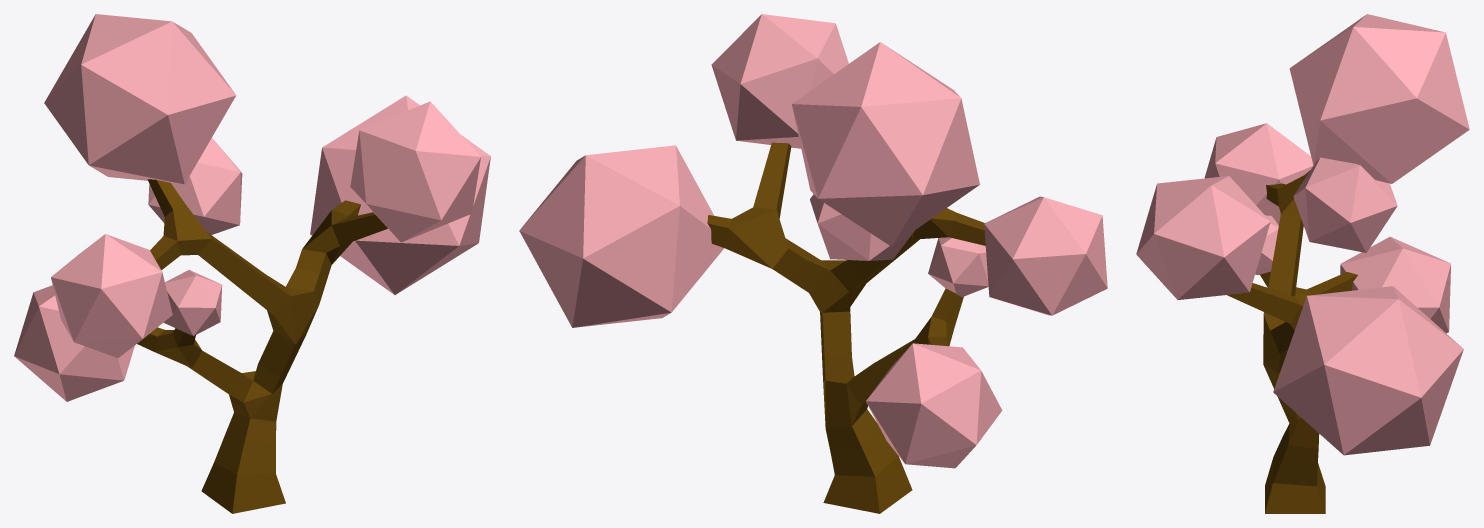
The model's file is cherry_two.fbx.
3 renders of one model, left to right at view 1: azimuth 30°, elevation 25°; view 2: azimuth 150°, elevation 25°; view 3: azimuth 270°, elevation 25°, orthographic. The views are drawn at different scales.
Visible parts, largest first — view 1: Cube, Icosphere.002, Icosphere.001, Icosphere.003, Icosphere, Icosphere.004, Icosphere.005, Icosphere.006; view 2: Icosphere, Icosphere.002, Cube, Icosphere.004, Icosphere.001, Icosphere.003, Icosphere.005, Icosphere.006; view 3: Icosphere, Icosphere.002, Icosphere.001, Cube, Icosphere.005, Icosphere.003, Icosphere.004, Icosphere.006.
Boxes of the visible parts, x1=… form: Cube: x1=137, y1=179, x2=387, y2=513; Icosphere.002: x1=44, y1=14, x2=236, y2=184; Icosphere.001: x1=350, y1=101, x2=480, y2=242; Icosphere.003: x1=51, y1=234, x2=172, y2=357; Icosphere: x1=310, y1=95, x2=490, y2=294; Icosphere.004: x1=14, y1=285, x2=134, y2=401; Icosphere.005: x1=148, y1=138, x2=242, y2=234; Icosphere.006: x1=163, y1=270, x2=222, y2=335; Icosphere: x1=519, y1=145, x2=724, y2=327; Icosphere.002: x1=791, y1=42, x2=979, y2=246; Cube: x1=707, y1=142, x2=985, y2=513; Icosphere.004: x1=866, y1=343, x2=1002, y2=468; Icosphere.001: x1=711, y1=14, x2=848, y2=148; Icosphere.003: x1=984, y1=196, x2=1107, y2=315; Icosphere.005: x1=810, y1=194, x2=914, y2=260; Icosphere.006: x1=928, y1=237, x2=988, y2=296; Icosphere: x1=1273, y1=286, x2=1463, y2=455; Icosphere.002: x1=1289, y1=14, x2=1469, y2=183; Icosphere.001: x1=1136, y1=176, x2=1270, y2=299; Cube: x1=1227, y1=170, x2=1357, y2=513; Icosphere.005: x1=1293, y1=157, x2=1397, y2=252; Icosphere.003: x1=1204, y1=123, x2=1313, y2=224; Icosphere.004: x1=1340, y1=236, x2=1450, y2=333; Icosphere.006: x1=1255, y1=215, x2=1278, y2=274.
Size of the model in its own units: 728 by 693 by 461.
